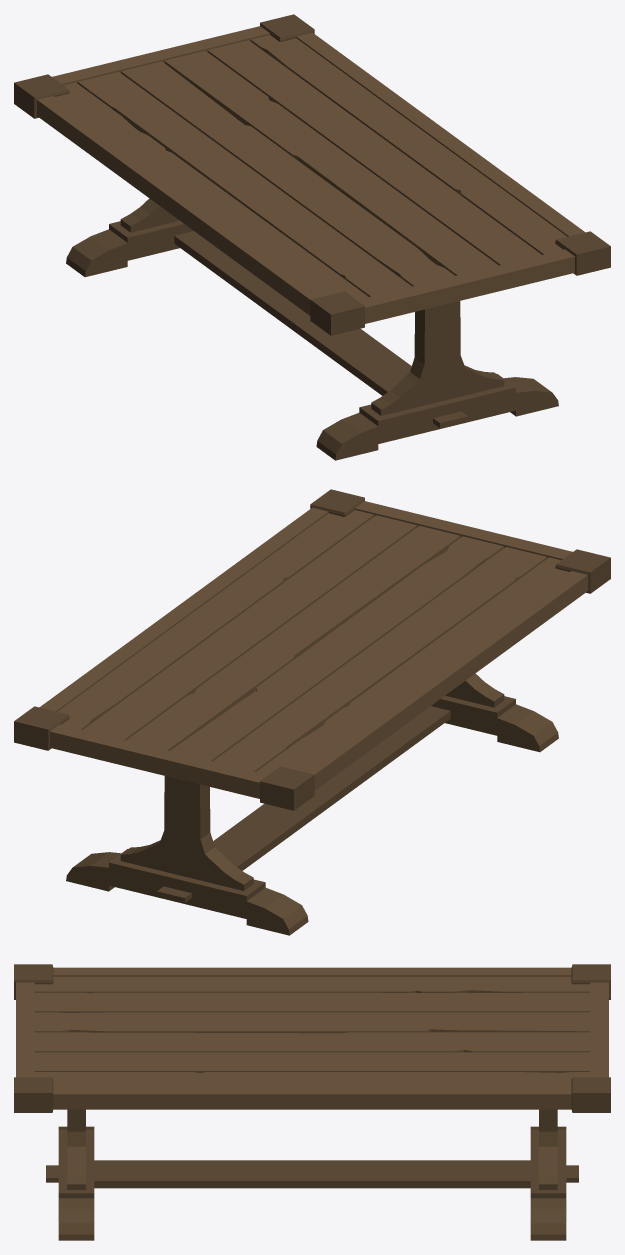
File: Table.glb
3 renders of one model, top to bottom at view 1: azimuth 30°, elevation 25°; view 2: azimuth 150°, elevation 25°; view 3: azimuth 270°, elevation 25°, orthographic. The views are drawn at different scales.
Visible parts, largest first — view 1: Table; view 2: Table; view 3: Table.
Part boxes in pixels (x1,y1,x2,y2): Table: [14, 14, 610, 460]; Table: [14, 489, 610, 935]; Table: [14, 964, 610, 1240].
Bounding box in the file's own units: 0.9432 × 0.5482 × 1.85.
2 materials, 2 textured.
